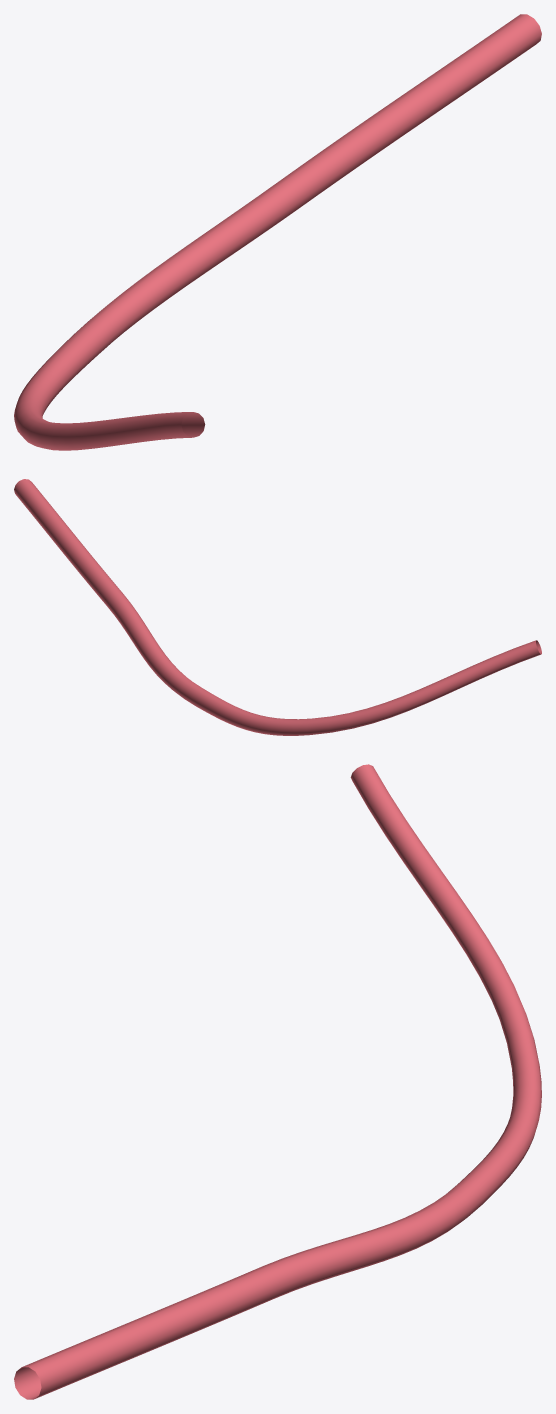
The picture shows the model from 3 angles, top to bottom: view 1: azimuth 90°, elevation 25°; view 2: azimuth 150°, elevation 25°; view 3: azimuth 270°, elevation 25°; orthographic projection. The views are drawn at different scales.
Visible parts, largest first — view 1: ZA_14c52ec4cbdc95f4; view 2: ZA_14c52ec4cbdc95f4; view 3: ZA_14c52ec4cbdc95f4.
Boxes of the visible parts, x1,y1,x2,y2 form: ZA_14c52ec4cbdc95f4: (14, 14, 541, 450); ZA_14c52ec4cbdc95f4: (14, 479, 541, 735); ZA_14c52ec4cbdc95f4: (14, 764, 541, 1399).
Bounding box in the file's own units: 0.0559 × 0.01 × 0.0244.
